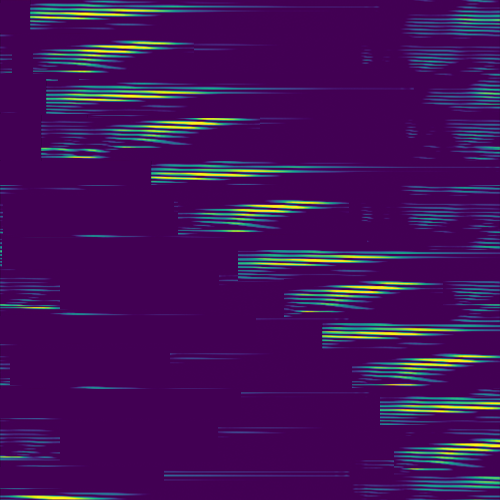semblance: (35, 38, 184, 76), (289, 280, 428, 316), (372, 351, 499, 389), (200, 199, 328, 234), (105, 115, 243, 144), (402, 435, 500, 472), (146, 162, 303, 183), (42, 85, 204, 105), (235, 249, 395, 269), (29, 1, 179, 22), (386, 396, 500, 418), (320, 325, 458, 342)
